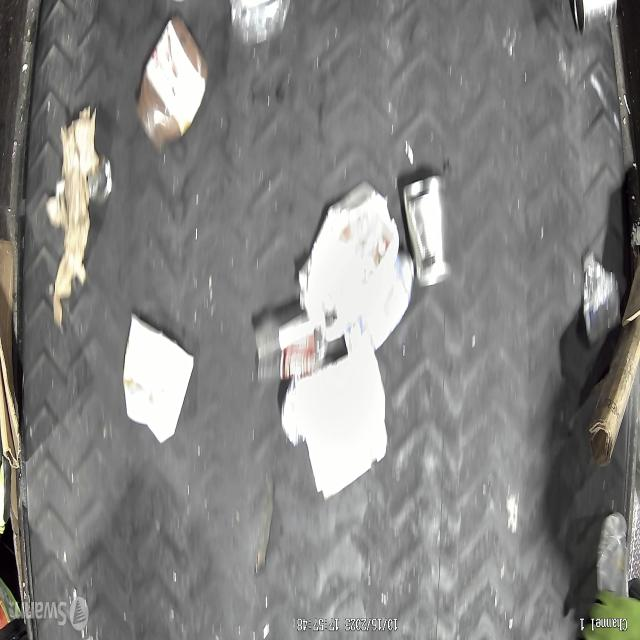can: (402, 174, 448, 288), (574, 1, 618, 36)
milk_jug: (297, 183, 399, 341), (344, 250, 414, 358)
